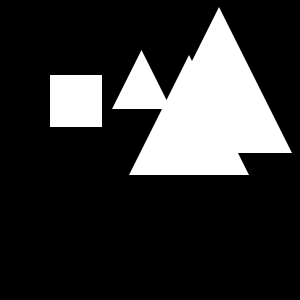circle: (50, 75, 102, 127)
triangle: (146, 7, 292, 153), (129, 55, 249, 175), (112, 50, 171, 109)
